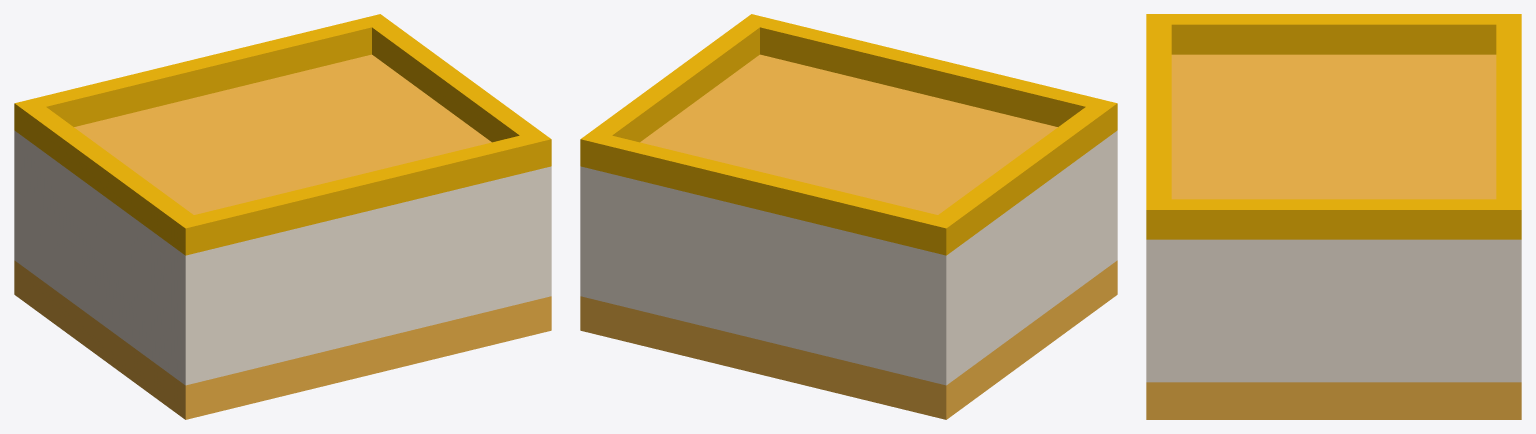
The model's file is Map-Shop-Lv1-Y.fbx.
3 renders of one model, left to right at view 1: azimuth 30°, elevation 25°; view 2: azimuth 150°, elevation 25°; view 3: azimuth 270°, elevation 25°, orthographic. The views are drawn at different scales.
Parts seen in each view (by area): view 1: Map-Shop-Lv1-Y; view 2: Map-Shop-Lv1-Y; view 3: Map-Shop-Lv1-Y.
Boxes of the visible parts, box(x1,y1,x2,y2) form: Map-Shop-Lv1-Y: box(14, 14, 551, 419); Map-Shop-Lv1-Y: box(580, 14, 1117, 419); Map-Shop-Lv1-Y: box(1146, 14, 1521, 419).
Size of the model in its own units: 1.68 by 0.84 by 1.36.
